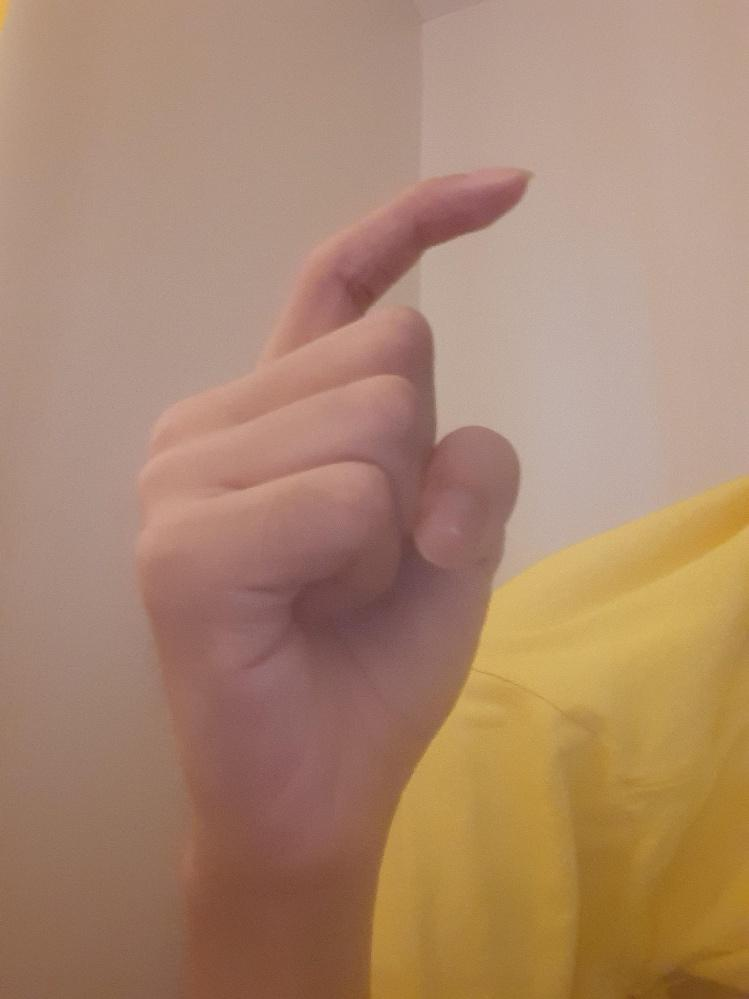x: (131, 164, 532, 837)
